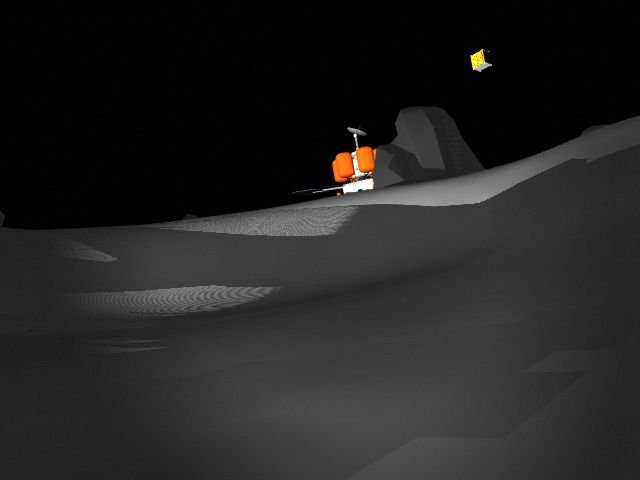cubesat: (465, 43, 499, 78)
